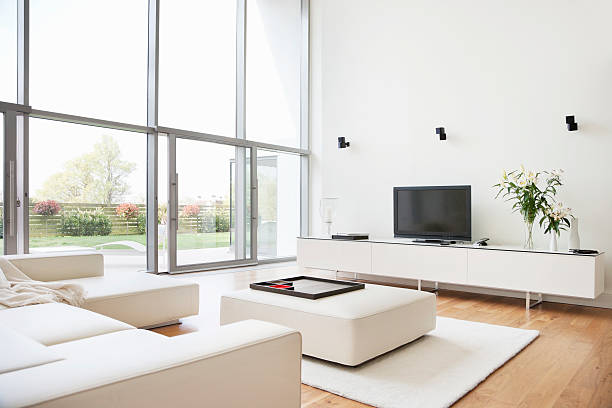TV: (391, 184, 473, 241)
TV stand: (295, 236, 606, 309)
flower vase: (493, 159, 565, 250), (540, 203, 570, 252)
sofa: (0, 245, 303, 407)
table: (220, 274, 441, 369)
